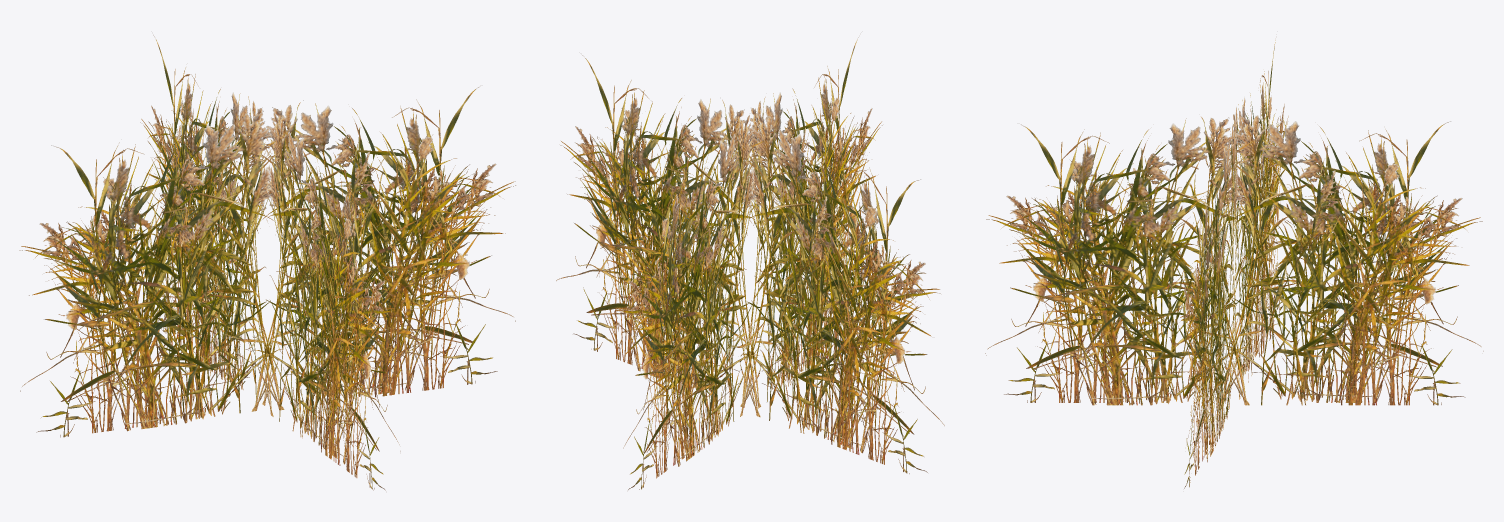
Rendered from SM_Plant_Grass_05.fbx.
3 views of the same model, side by side, from view 1: azimuth 30°, elevation 25°; view 2: azimuth 150°, elevation 25°; view 3: azimuth 270°, elevation 25° (orthographic). The views are drawn at different scales.
Parts seen in each view (by area): view 1: SM_Plant_Grass_05; view 2: SM_Plant_Grass_05; view 3: SM_Plant_Grass_05.
Part boxes in pixels (x1,y1,x2,y2): SM_Plant_Grass_05: [19, 35, 515, 490]; SM_Plant_Grass_05: [556, 37, 944, 489]; SM_Plant_Grass_05: [985, 40, 1483, 488].
Size of the model in its own units: 431 by 280 by 440.
